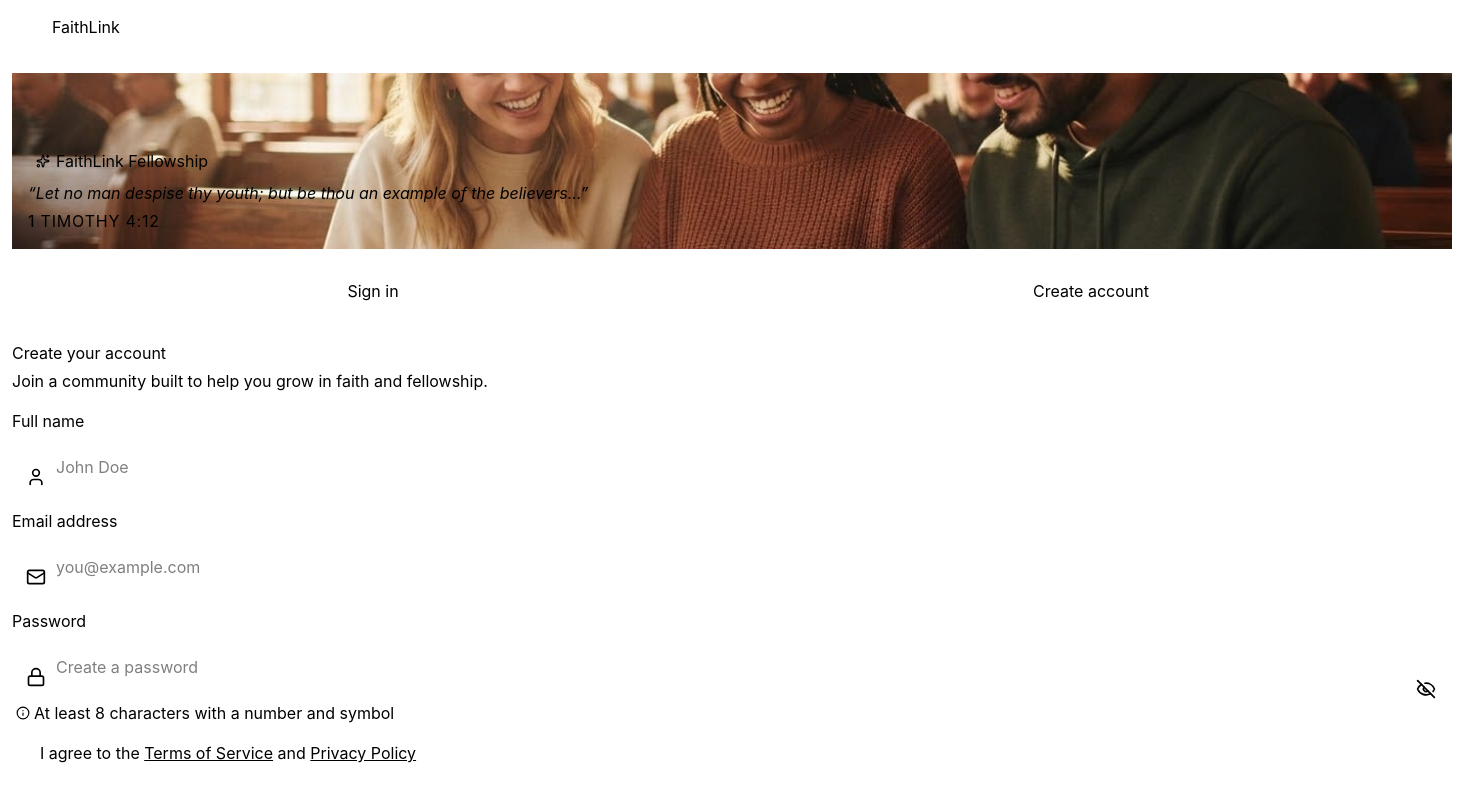
Test: Create account page › asks for a number and a symbol
Type "longenough" into the password field labelled "Password" at [732, 667], box [12,641,1452,693]
(page scrolled)
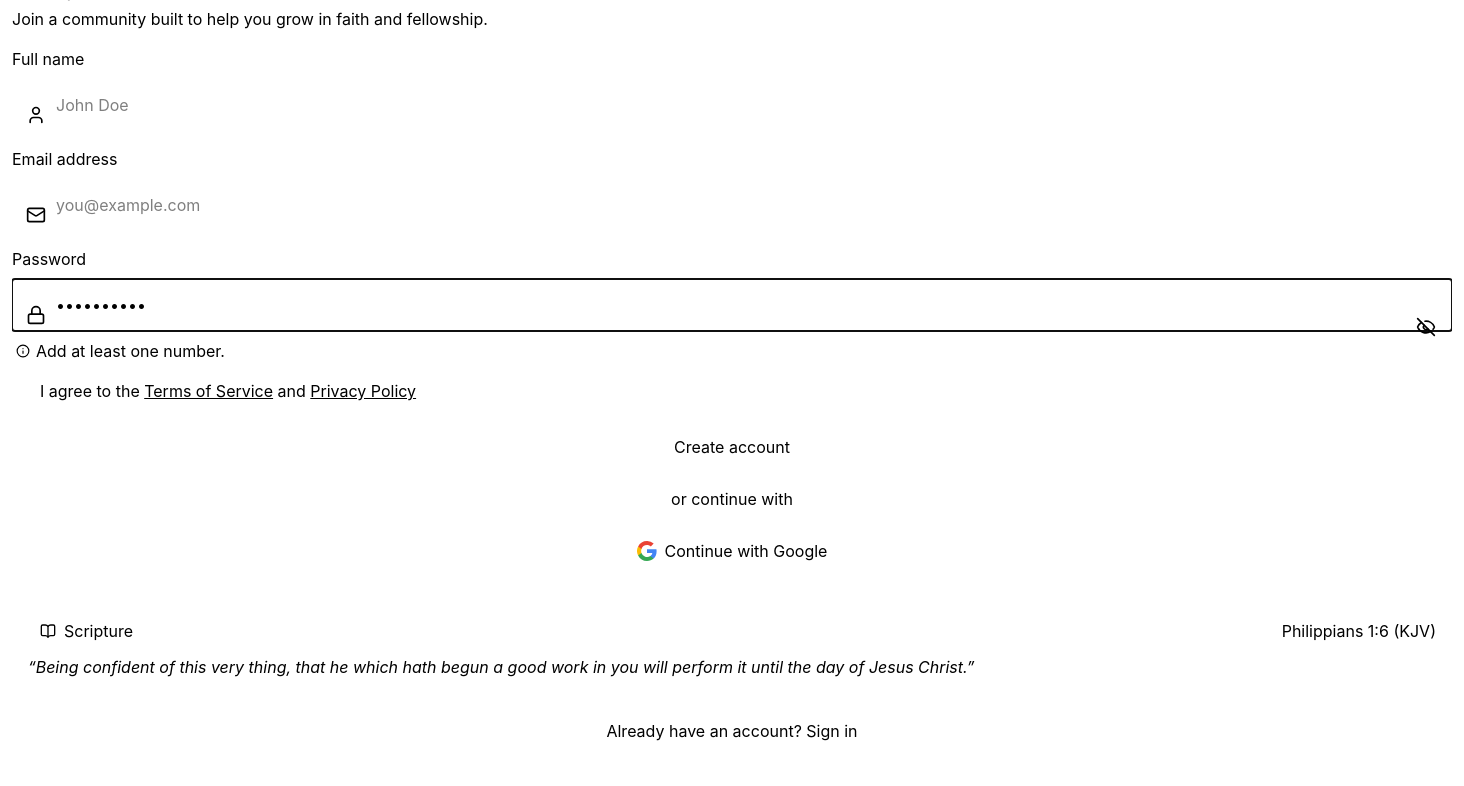
Click the button "Create account" at [732, 447], box [12,423,1452,471]
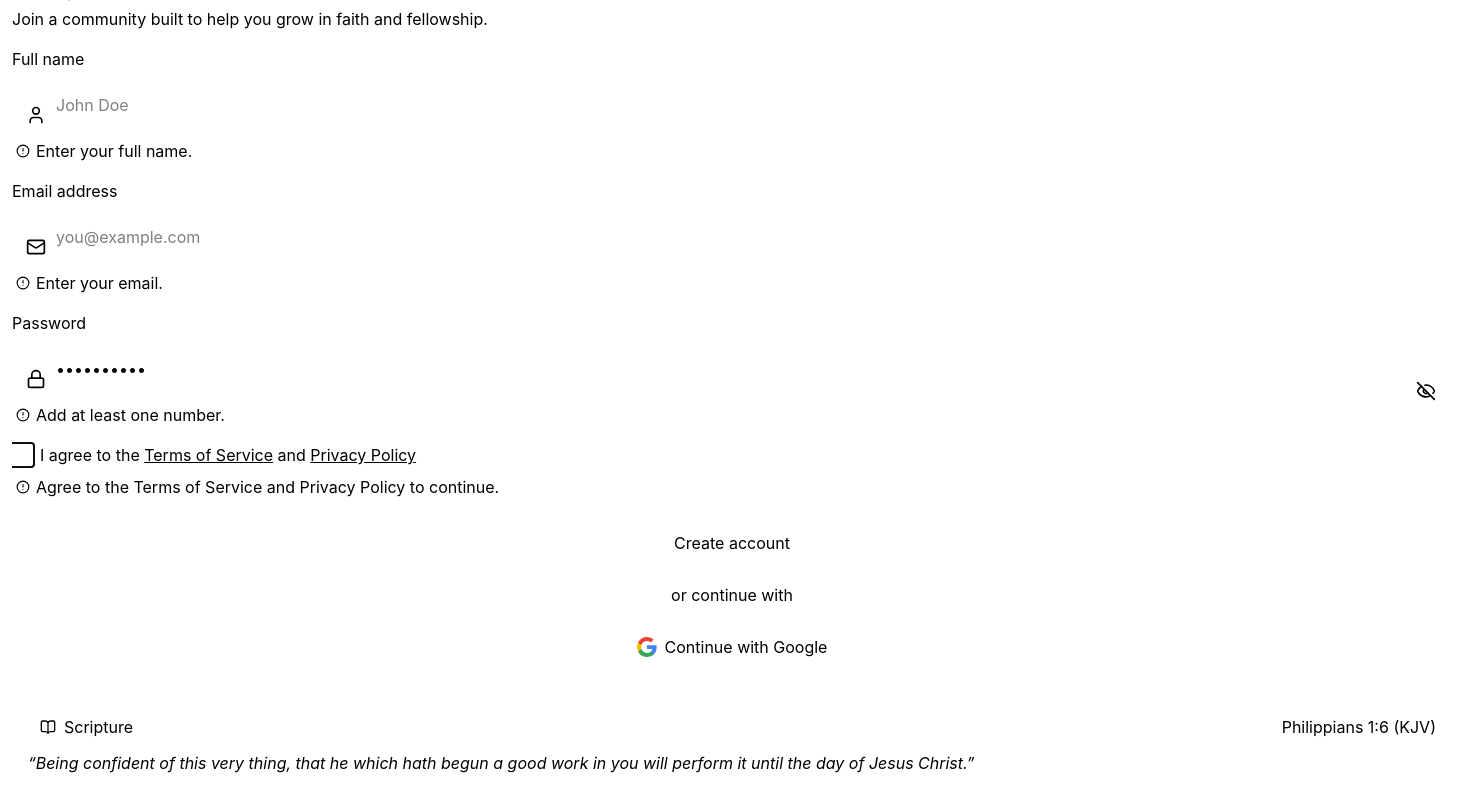
Now the text "Add at least one number." is shown, box [16,405,225,425]
Type "7" into the password field labelled "Password" at [732, 369], box [12,343,1452,395]
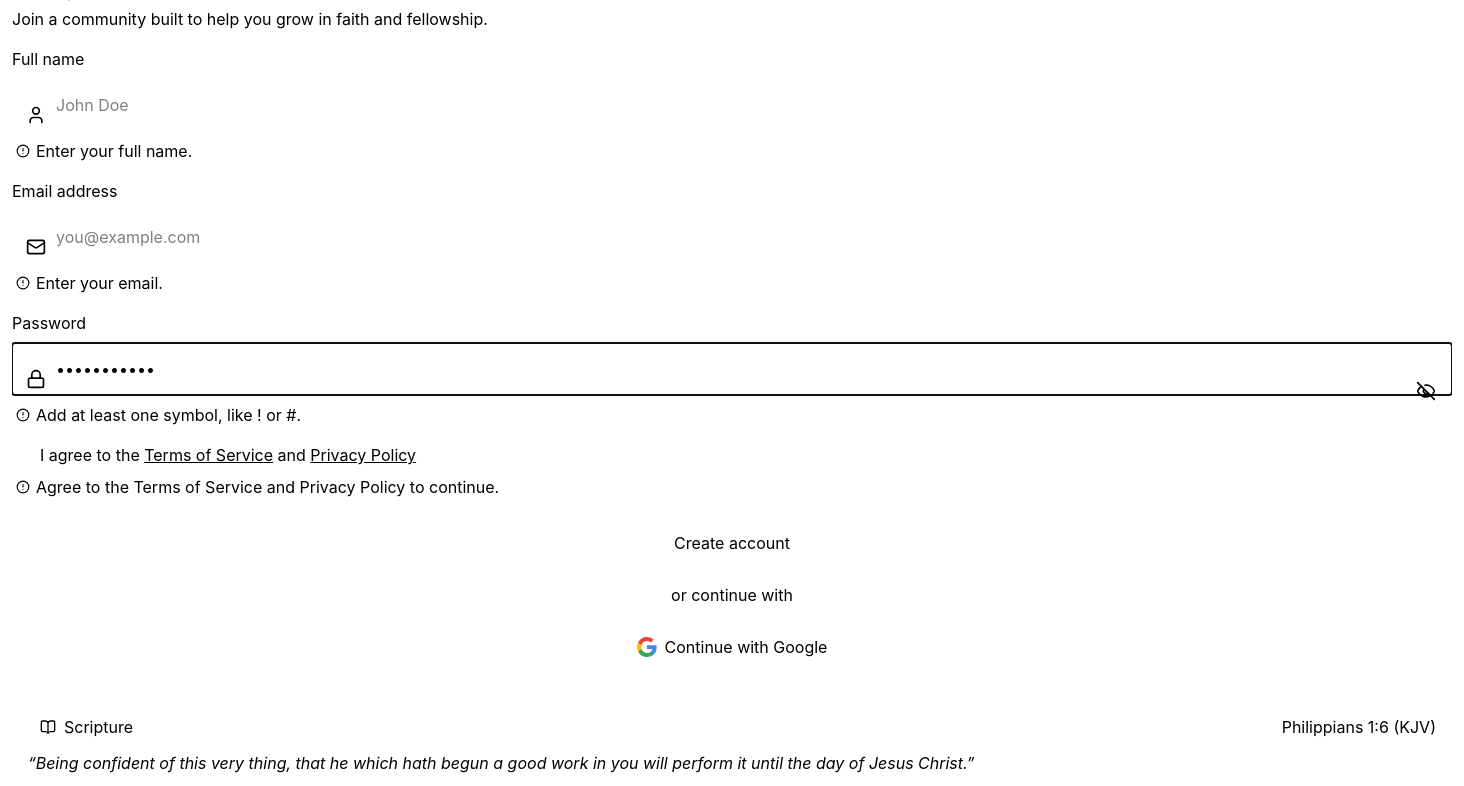
Now the text "Add at least one symbol, like ! or #." is shown, box [16,405,301,425]
